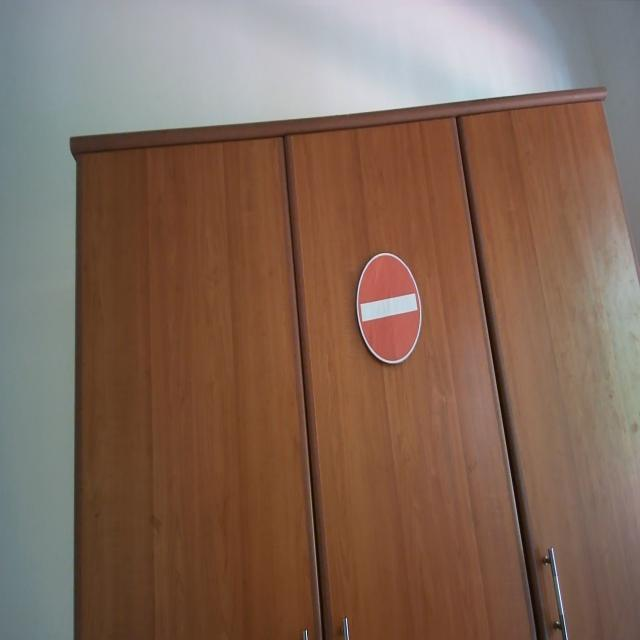no_entry: (354, 250, 424, 368)
